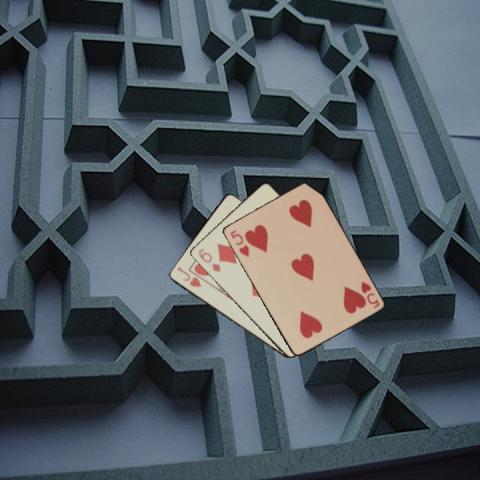5h: (227, 227, 251, 258), (358, 278, 381, 309)
6d: (196, 246, 222, 273)
Jh: (174, 264, 203, 288)
